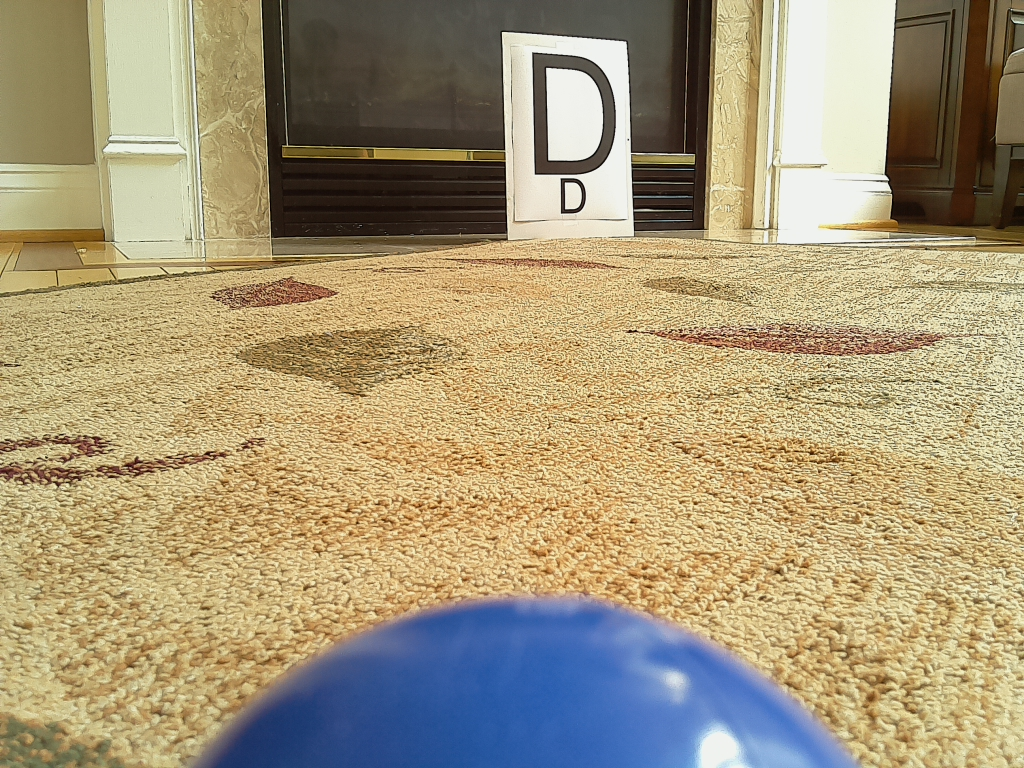letter: (534, 53, 617, 175)
